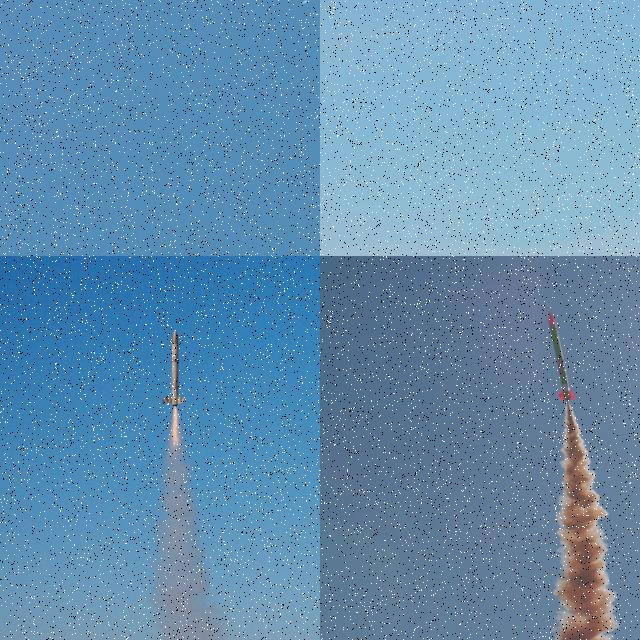Rocket: (547, 310, 577, 402), (161, 329, 186, 406), (301, 0, 307, 4)
